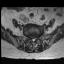CCS_stenosis: (32, 36, 34, 43)
LFS_severe_stenosis: (36, 36, 38, 40)
LLS_stenosis: (34, 36, 36, 41)
RFS_severe_stenosis: (29, 35, 31, 41)
RLS_stenosis: (30, 36, 32, 42)
